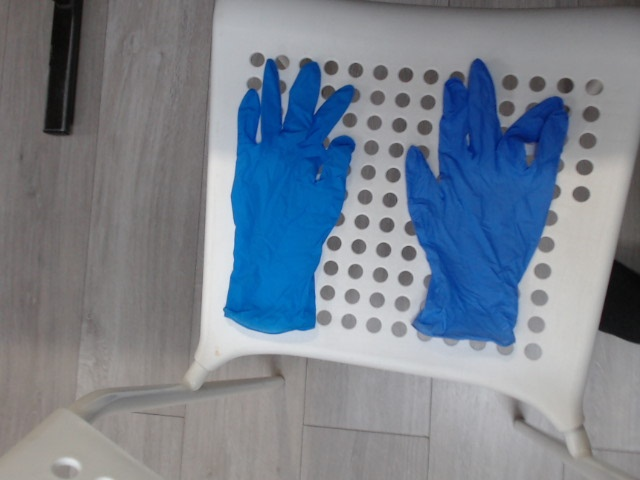medical_glove: (405, 58, 569, 343), (224, 59, 357, 329)
